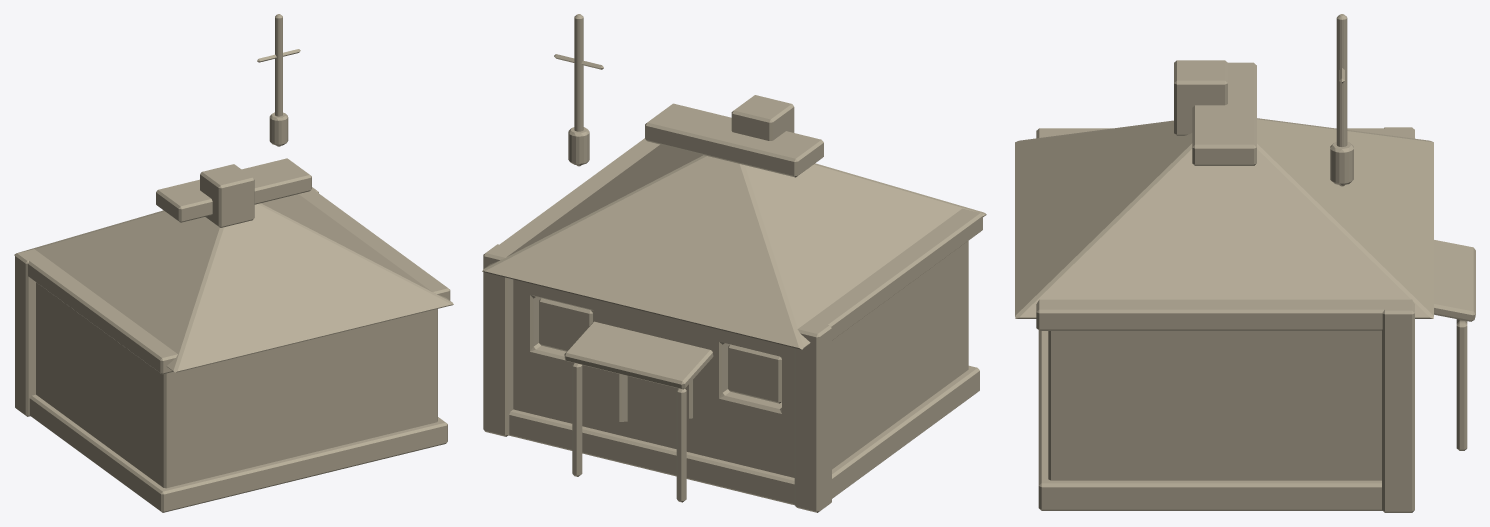
The model's file is camp_hq.glb.
The picture shows the model from 3 angles, left to right: view 1: azimuth 30°, elevation 25°; view 2: azimuth 150°, elevation 25°; view 3: azimuth 270°, elevation 25°; orthographic projection. The views are drawn at different scales.
Parts seen in each view (by area): view 1: camp_hq; view 2: camp_hq; view 3: camp_hq.
Part boxes in pixels (left/top/right/bottom): camp_hq: left=14, top=14, right=453, bottom=512; camp_hq: left=482, top=14, right=986, bottom=512; camp_hq: left=1015, top=14, right=1475, bottom=512.
Bounding box in the file's own units: 3.74 × 4.37 × 3.92.
